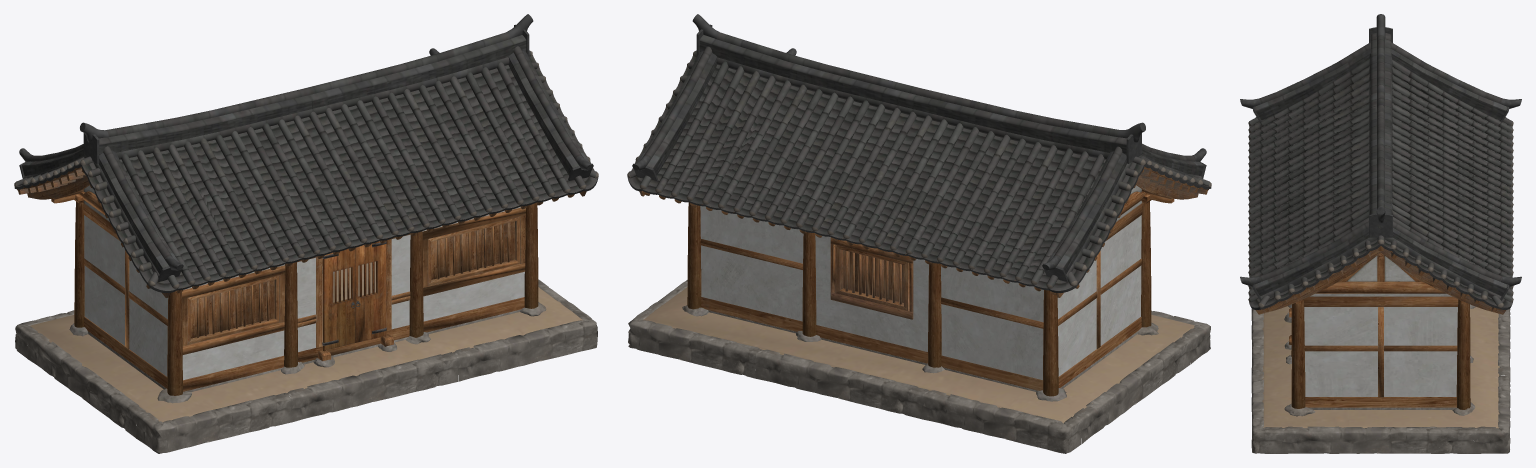
The model's file is sarangchae.glb.
The picture shows the model from 3 angles, left to right: view 1: azimuth 30°, elevation 25°; view 2: azimuth 150°, elevation 25°; view 3: azimuth 270°, elevation 25°; orthographic projection. The views are drawn at different scales.
Visible parts, largest first — view 1: SM_24ET0028_Roof02_M_24ET0028_Roof02_0, SM_24ET0028_Roof02_M_24ET0028_Roof01_0, SM_24ET0028_Stereobate_M_24ET0028_Stereobate_0, SM_24ET0028_Wall_M_24ET0028_Wall_0, SM_24ET0028_Floor_M_24ET0028_Floor_0, SM_24ET0028_Roof01_M_24ET0028_Roof03_0, SM_24ET0028_Wallwood_02_M_24ET0028_Wallwood_02_0, SM_24ET0028_Window_01_M_24ET0028_Window_01_0, SM_24ET0028_Roof03_M_24ET0028_Roof03_0, SM_24ET0028_Pillar_M_24ET0028_Pillar_0, SM_24ET0028_Wallwood_01_M_24ET0028_Wallwood_01_0, SM_24ET0028_Door01_M_24ET0028_Door01_0 (+7 smaller); view 2: SM_24ET0028_Roof02_M_24ET0028_Roof02_0, SM_24ET0028_Roof02_M_24ET0028_Roof01_0, SM_24ET0028_Wall_M_24ET0028_Wall_0, SM_24ET0028_Stereobate_M_24ET0028_Stereobate_0, SM_24ET0028_Floor_M_24ET0028_Floor_0, SM_24ET0028_Roof01_M_24ET0028_Roof03_0, SM_24ET0028_Roof03_M_24ET0028_Roof03_0, SM_24ET0028_Pillar_M_24ET0028_Pillar_0, SM_24ET0028_Window_02_M_24ET0028_Window_02_0, SM_24ET0028_Wallwood_02_M_24ET0028_Wallwood_02_0, SM_24ET0028_Wallwood_01_M_24ET0028_Wallwood_01_0, SM_24ET0028_Roof04_M_24ET0028_Roof02_0 (+4 smaller); view 3: SM_24ET0028_Roof02_M_24ET0028_Roof01_0, SM_24ET0028_Wall_M_24ET0028_Wall_0, SM_24ET0028_Roof03_M_24ET0028_Roof03_0, SM_24ET0028_Stereobate_M_24ET0028_Stereobate_0, SM_24ET0028_Floor_M_24ET0028_Floor_0, SM_24ET0028_Roof02_M_24ET0028_Roof02_0, SM_24ET0028_Roof01_M_24ET0028_Roof03_0, SM_24ET0028_Wallwood_01_M_24ET0028_Wallwood_01_0, SM_24ET0028_Pillar_M_24ET0028_Pillar_0, SM_24ET0028_Bakgong_M_24ET0028_Bakgong_0, SM_24ET0028_Roof04_M_24ET0028_Roof02_0, SM_24ET0028_Wallwood_02_M_24ET0028_Wallwood_02_0 (+5 smaller).
Boxes of the visible parts, <box> form: SM_24ET0028_Roof02_M_24ET0028_Roof02_0: <box>120,65,583,290</box>; SM_24ET0028_Roof02_M_24ET0028_Roof01_0: <box>121,62,586,288</box>; SM_24ET0028_Stereobate_M_24ET0028_Stereobate_0: <box>15,279,597,453</box>; SM_24ET0028_Wall_M_24ET0028_Wall_0: <box>84,207,524,380</box>; SM_24ET0028_Floor_M_24ET0028_Floor_0: <box>30,261,582,422</box>; SM_24ET0028_Roof01_M_24ET0028_Roof03_0: <box>80,14,533,163</box>; SM_24ET0028_Wallwood_02_M_24ET0028_Wallwood_02_0: <box>84,207,525,391</box>; SM_24ET0028_Window_01_M_24ET0028_Window_01_0: <box>187,216,519,344</box>; SM_24ET0028_Roof03_M_24ET0028_Roof03_0: <box>19,46,593,281</box>; SM_24ET0028_Pillar_M_24ET0028_Pillar_0: <box>74,201,538,395</box>; SM_24ET0028_Wallwood_01_M_24ET0028_Wallwood_01_0: <box>83,203,410,349</box>; SM_24ET0028_Door01_M_24ET0028_Door01_0: <box>323,249,355,351</box>; SM_24ET0028_Roof02_M_24ET0028_Roof02_0: <box>642,64,1105,290</box>; SM_24ET0028_Roof02_M_24ET0028_Roof01_0: <box>639,61,1104,288</box>; SM_24ET0028_Wall_M_24ET0028_Wall_0: <box>700,206,1141,379</box>; SM_24ET0028_Stereobate_M_24ET0028_Stereobate_0: <box>628,280,1210,453</box>; SM_24ET0028_Floor_M_24ET0028_Floor_0: <box>643,287,1194,423</box>; SM_24ET0028_Roof01_M_24ET0028_Roof03_0: <box>692,14,1145,163</box>; SM_24ET0028_Roof03_M_24ET0028_Roof03_0: <box>632,46,1206,281</box>; SM_24ET0028_Pillar_M_24ET0028_Pillar_0: <box>687,201,1151,396</box>; SM_24ET0028_Window_02_M_24ET0028_Window_02_0: <box>830,237,913,319</box>; SM_24ET0028_Wallwood_02_M_24ET0028_Wallwood_02_0: <box>701,297,1141,390</box>; SM_24ET0028_Wallwood_01_M_24ET0028_Wallwood_01_0: <box>700,203,1142,348</box>; SM_24ET0028_Roof04_M_24ET0028_Roof02_0: <box>627,55,1211,292</box>; SM_24ET0028_Roof02_M_24ET0028_Roof01_0: <box>1248,59,1513,302</box>; SM_24ET0028_Wall_M_24ET0028_Wall_0: <box>1304,307,1457,396</box>; SM_24ET0028_Roof03_M_24ET0028_Roof03_0: <box>1240,42,1521,300</box>; SM_24ET0028_Stereobate_M_24ET0028_Stereobate_0: <box>1251,308,1510,453</box>; SM_24ET0028_Floor_M_24ET0028_Floor_0: <box>1262,306,1499,428</box>; SM_24ET0028_Roof02_M_24ET0028_Roof02_0: <box>1249,66,1512,297</box>; SM_24ET0028_Roof01_M_24ET0028_Roof03_0: <box>1369,14,1392,237</box>; SM_24ET0028_Wallwood_01_M_24ET0028_Wallwood_01_0: <box>1303,296,1458,397</box>; SM_24ET0028_Pillar_M_24ET0028_Pillar_0: <box>1291,299,1470,409</box>; SM_24ET0028_Bakgong_M_24ET0028_Bakgong_0: <box>1255,246,1506,314</box>; SM_24ET0028_Roof04_M_24ET0028_Roof02_0: <box>1249,117,1512,309</box>; SM_24ET0028_Wallwood_02_M_24ET0028_Wallwood_02_0: <box>1289,308,1456,407</box>.
Size of the model in its own units: 10.17 by 6 by 6.18.
Materials: 25 (25 with a texture image).
